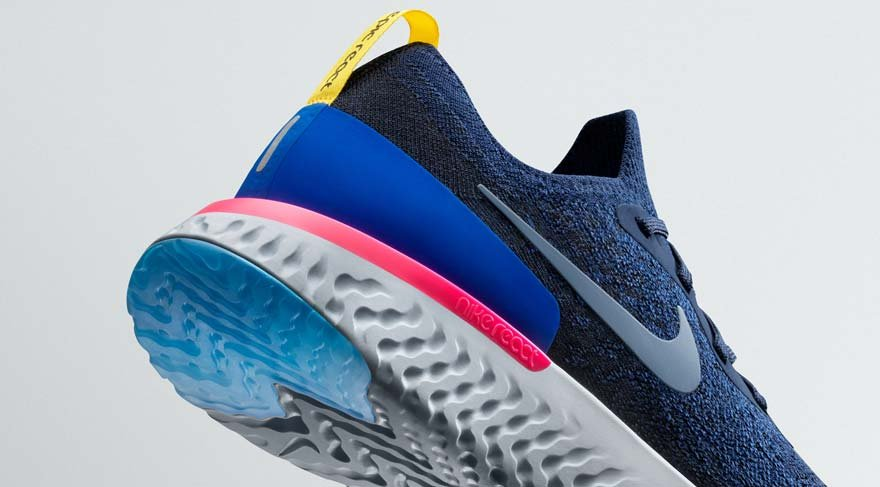nike: (480, 181, 704, 397)
